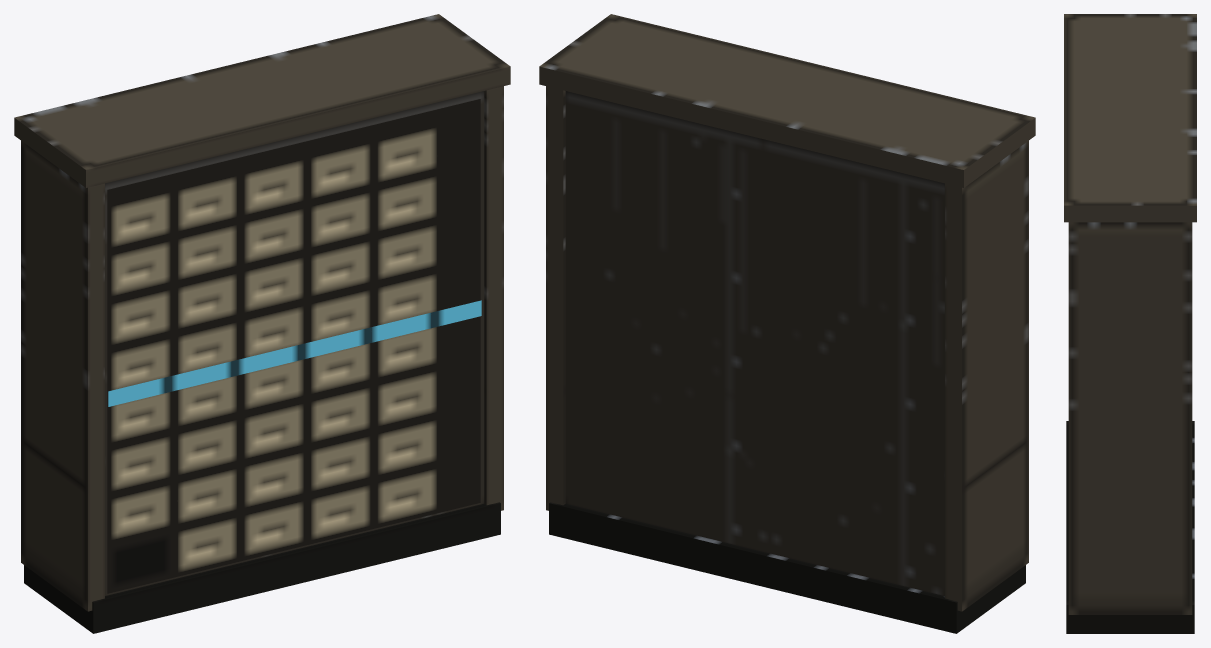
Rendered from Barrier.obj.
3 views of the same model, side by side, from view 1: azimuth 30°, elevation 25°; view 2: azimuth 150°, elevation 25°; view 3: azimuth 270°, elevation 25° (orthographic). The views are drawn at different scales.
Parts seen in each view (by area): view 1: Barrier; view 2: Barrier; view 3: Barrier.
Part boxes in pixels (x1=…): Barrier: x1=14, y1=14, x2=510, y2=633; Barrier: x1=539, y1=14, x2=1035, y2=633; Barrier: x1=1064, y1=14, x2=1196, y2=633.
Size of the model in its own units: 1.98 by 2.08 by 0.58.
Materials: 1 (1 with a texture image).
